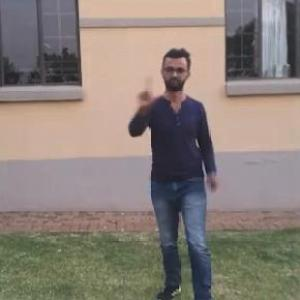land_hand: (136, 69, 170, 112)
